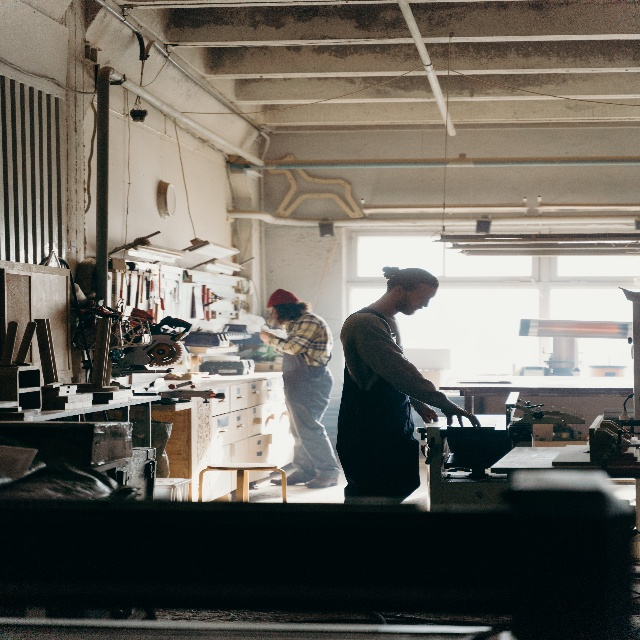Sin_guantes: (443, 406, 480, 428), (420, 408, 439, 424), (260, 329, 272, 345)
